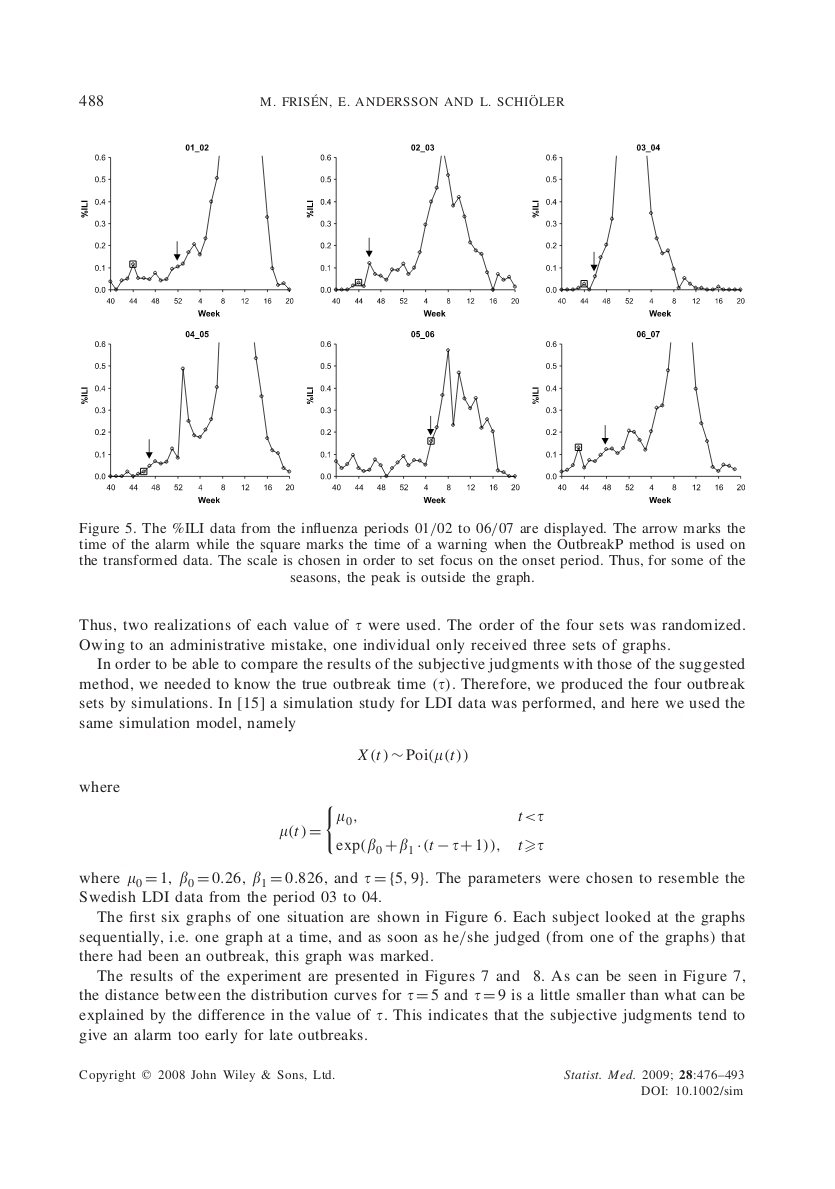figure: (306, 331, 519, 503), (81, 144, 293, 316), (306, 144, 518, 316), (532, 144, 744, 316), (81, 331, 293, 503), (532, 331, 744, 503)
formula: (279, 805, 543, 855), (357, 749, 467, 763)
